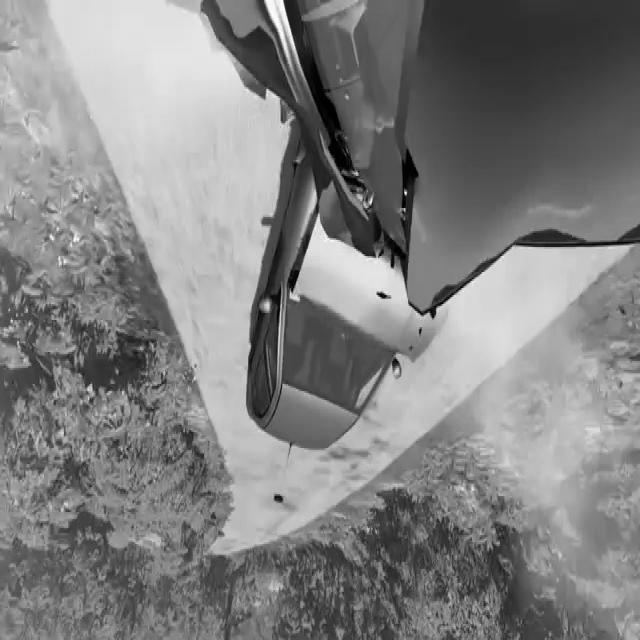moderate: (182, 0, 640, 468)
